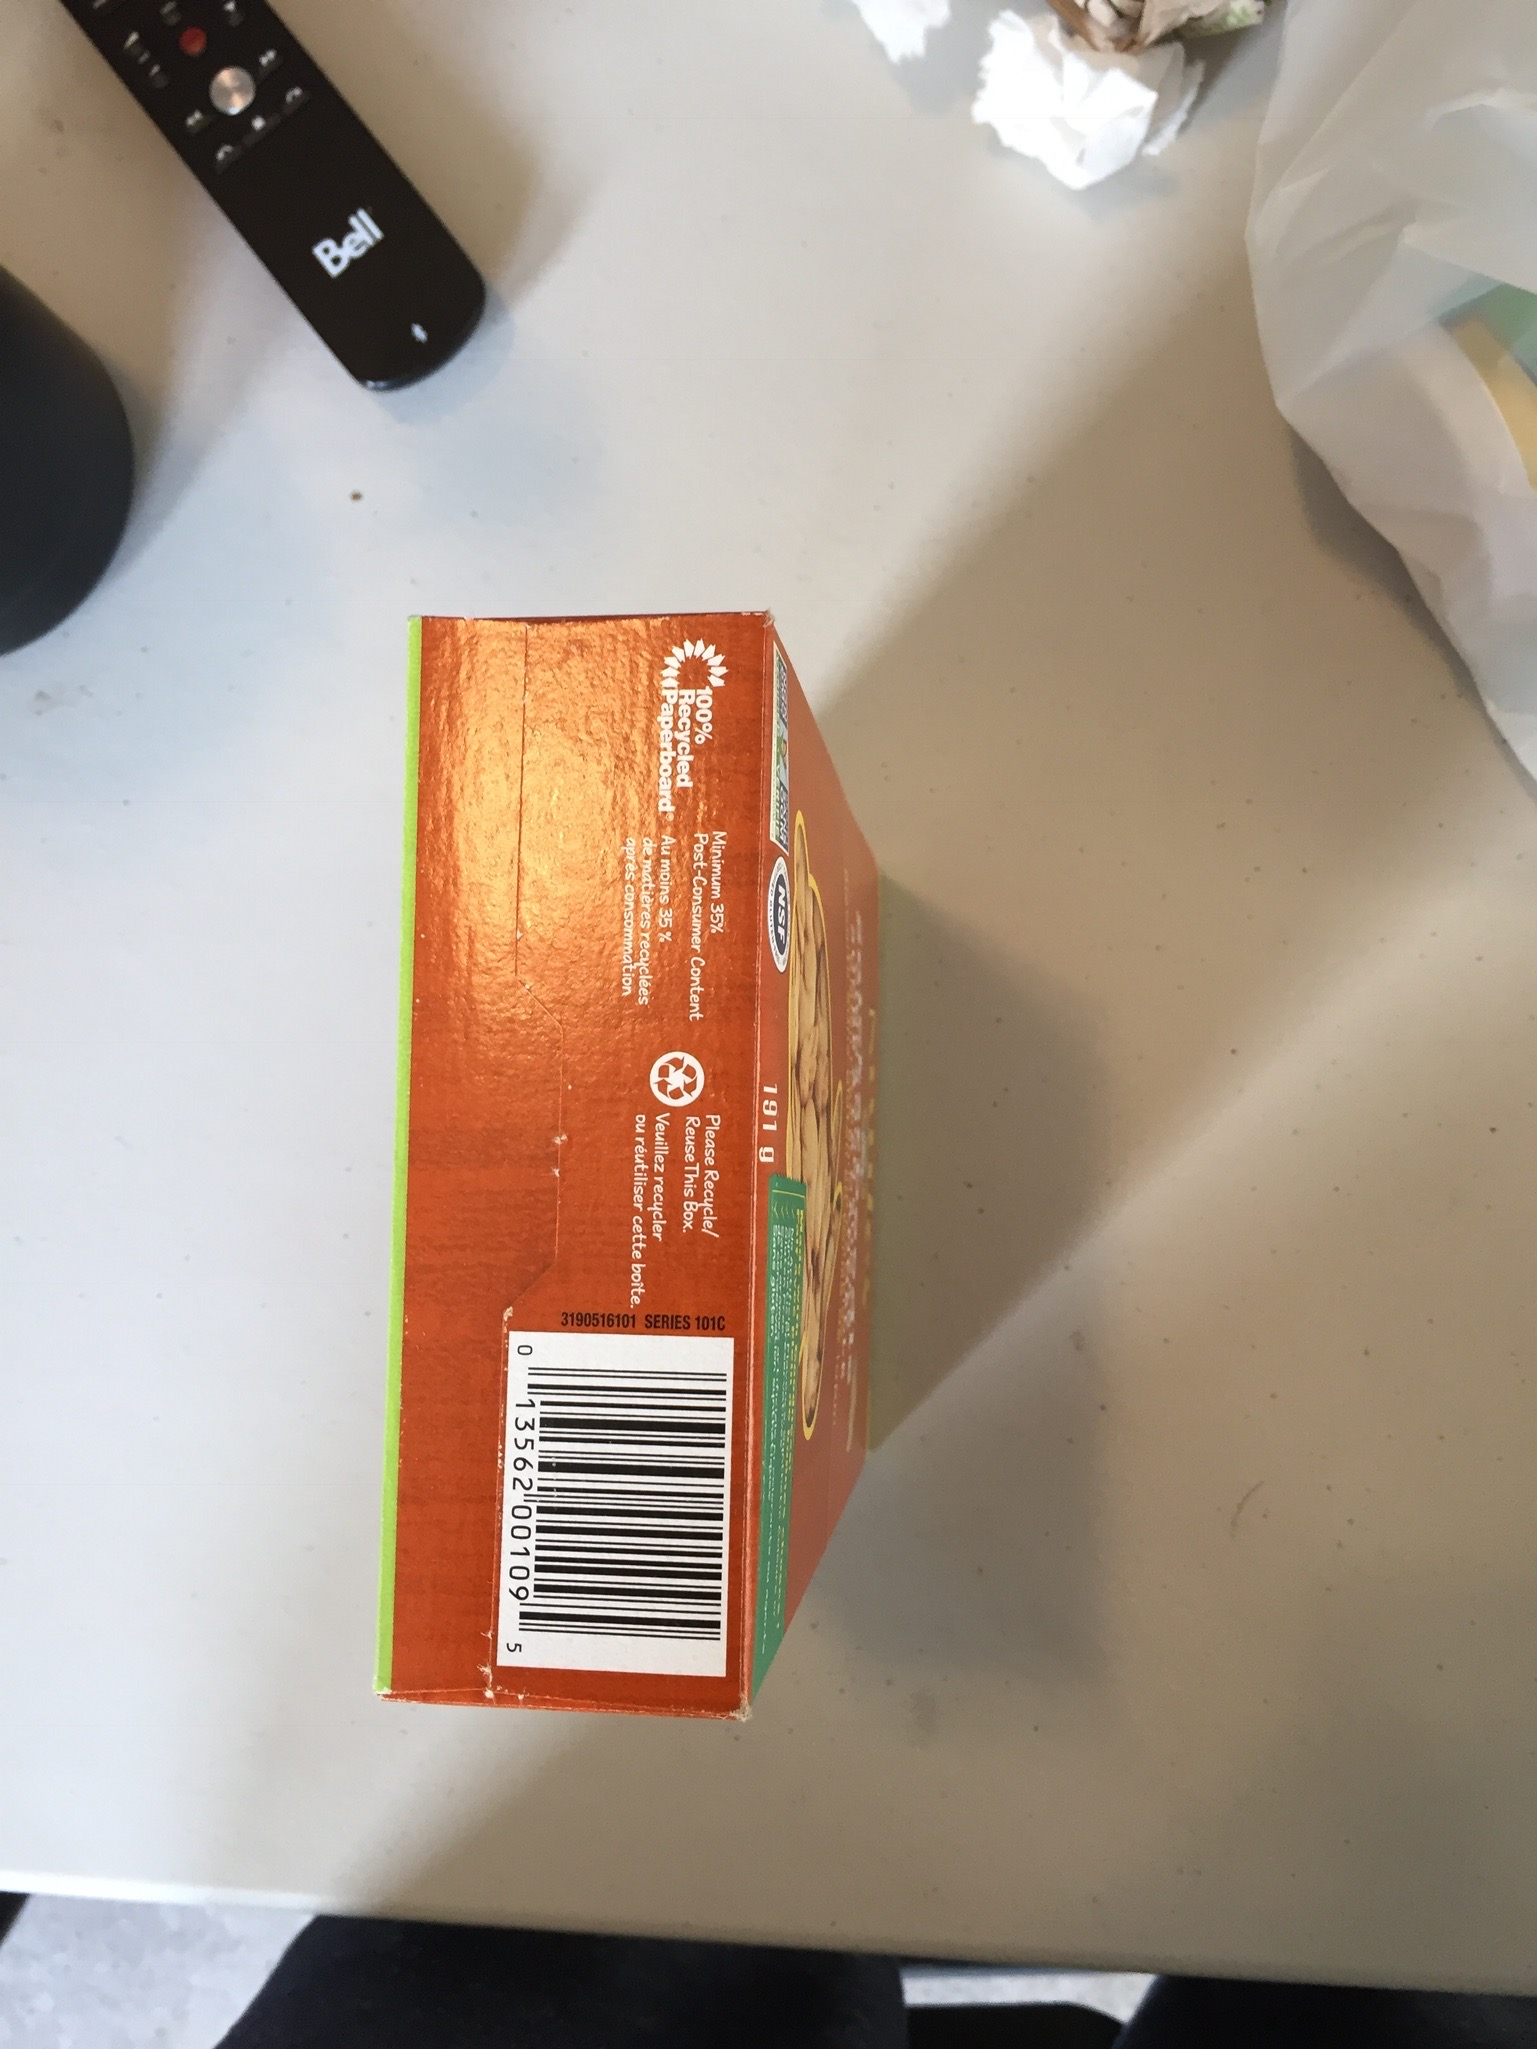annies_snickerdoodles_cinnamon_sugar: (428, 623, 777, 1679)
